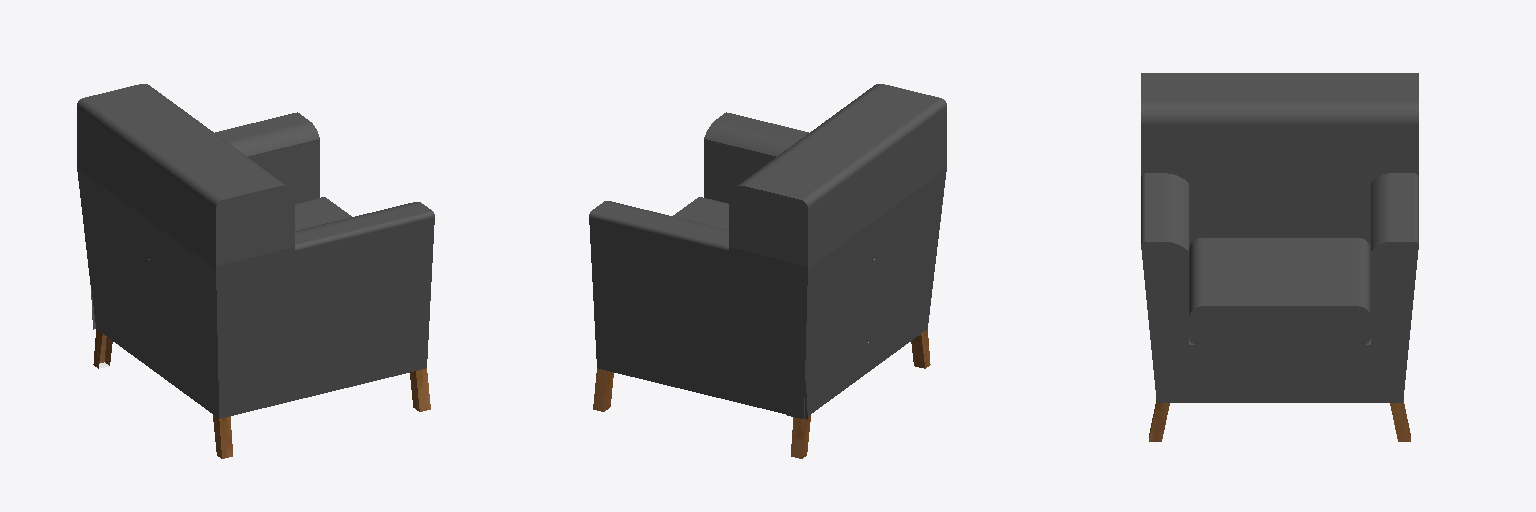
3 views of the same model, side by side, from view 1: azimuth 30°, elevation 25°; view 2: azimuth 150°, elevation 25°; view 3: azimuth 270°, elevation 25° (orthographic).
Visible parts, largest first — view 1: Mesh1 Ekenas_chair_Ikea1 Model; view 2: Mesh1 Ekenas_chair_Ikea1 Model; view 3: Mesh1 Ekenas_chair_Ikea1 Model.
Part boxes in pixels (left/top/right/bottom): Mesh1 Ekenas_chair_Ikea1 Model: left=77, top=84, right=434, bottom=458; Mesh1 Ekenas_chair_Ikea1 Model: left=589, top=84, right=946, bottom=458; Mesh1 Ekenas_chair_Ikea1 Model: left=1141, top=73, right=1418, bottom=441.
Size of the model in its own units: 0.78 by 0.9 by 0.86.
3 materials, 1 textured.